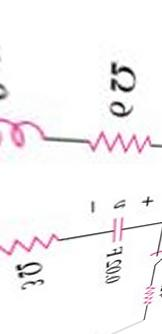resistor: (83, 121, 155, 164), (4, 223, 66, 258), (140, 274, 152, 313)
